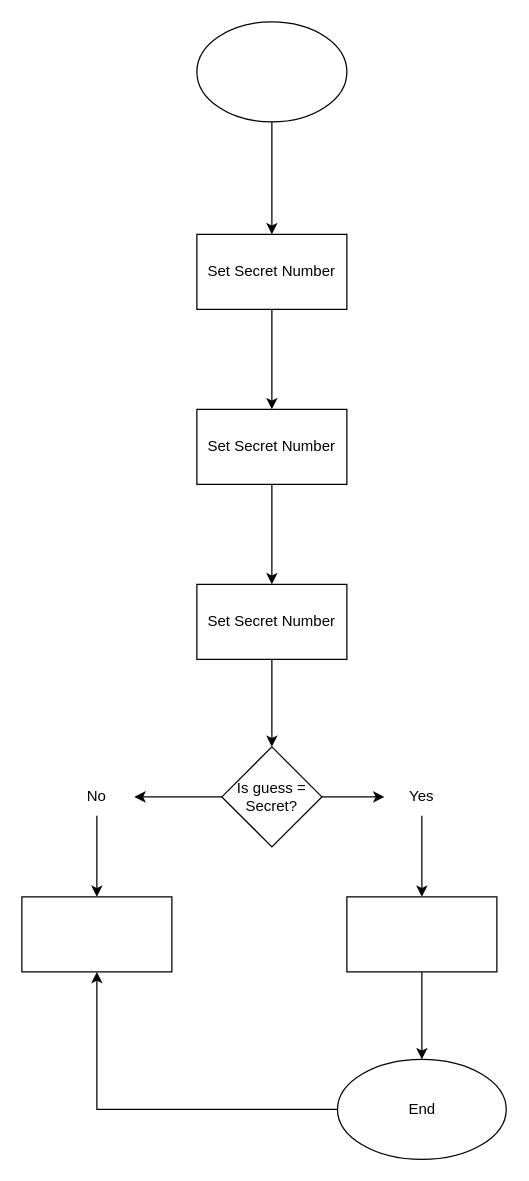
Image size: 529x1181. Some labels were removed from this diagram. Each missing label, with the centre of its shape:
Ask User to Guess Again: (96,934)
Print "Well Guessed!": (421,934)
Start: (271,71)
